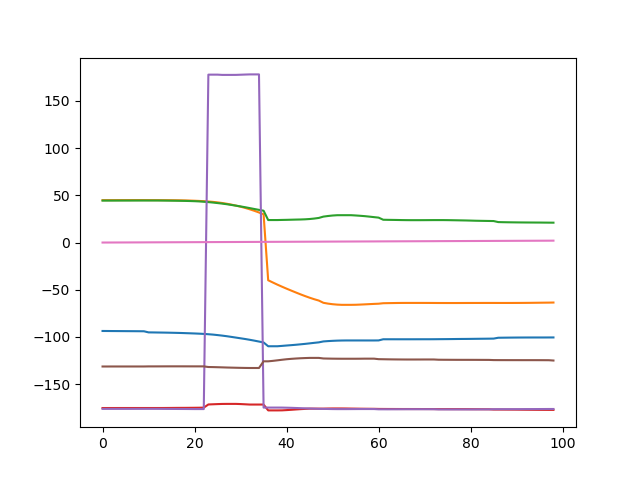Too_Fast: (1, 1, 640, 480)
